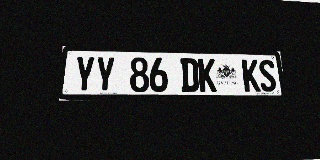6: (149, 57, 168, 92)
8: (130, 57, 149, 92)
D: (180, 58, 199, 92)
K: (198, 58, 217, 92), (242, 59, 261, 92)
S: (258, 60, 277, 92)
Y: (73, 56, 95, 92), (95, 56, 115, 92)
